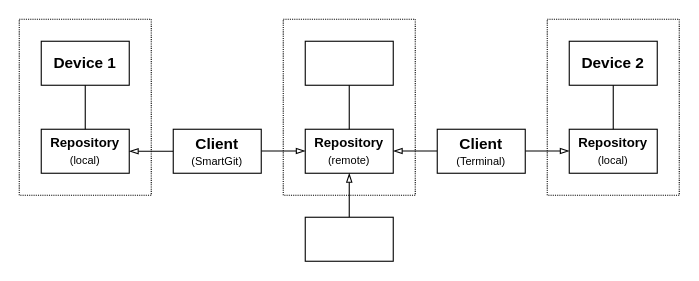
The diagram is 699 pixels wide and 281 high, and some of its shapes have lost their labels. The box of each missing label's shape, as (x1, y1, x2, y2) in pixels:
Client (GitHub): (304, 216, 393, 261)
Server: (304, 40, 393, 85)
